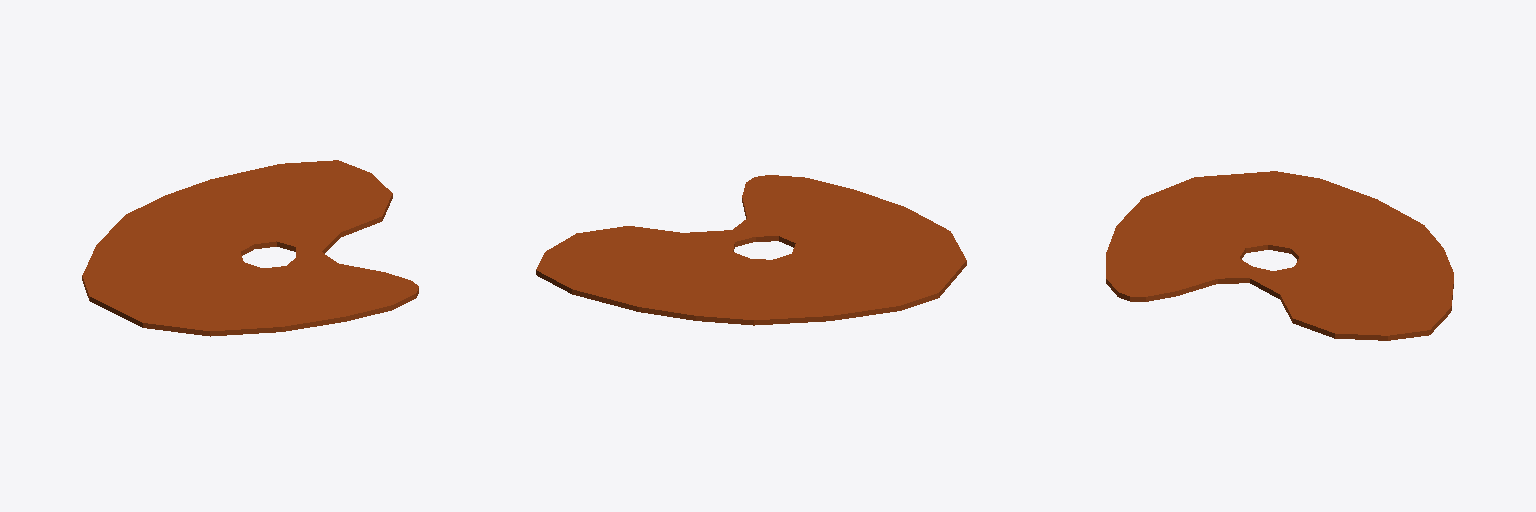
Rendered from pallete_nocolor.obj.
3 views of the same model, side by side, from view 1: azimuth 30°, elevation 25°; view 2: azimuth 150°, elevation 25°; view 3: azimuth 270°, elevation 25° (orthographic).
Visible parts, largest first — view 1: palette; view 2: palette; view 3: palette.
Part boxes in pixels (x1,y1,x2,y2): palette: (82,160,418,336); palette: (536,175,966,325); palette: (1106,171,1453,340).
Size of the model in its own units: 1.61 by 0.0235 by 1.44.